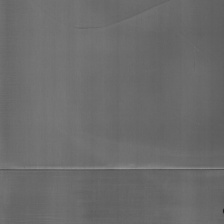welding_line: (0, 161, 224, 177)
